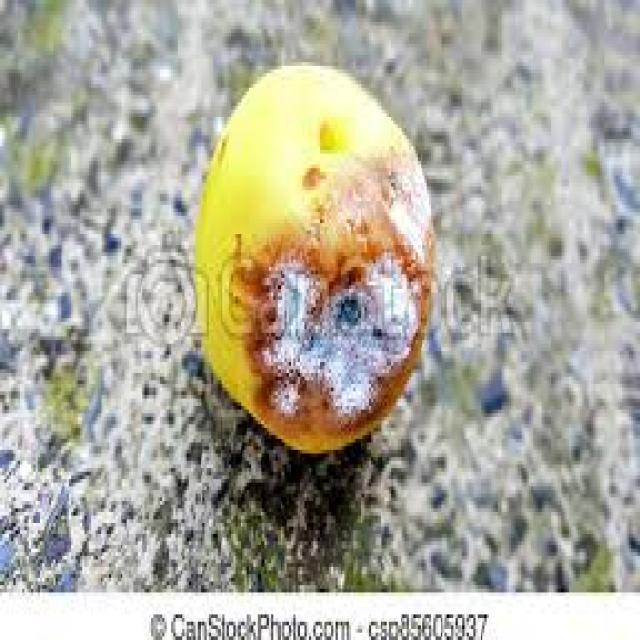organic waste: (191, 59, 429, 446)
